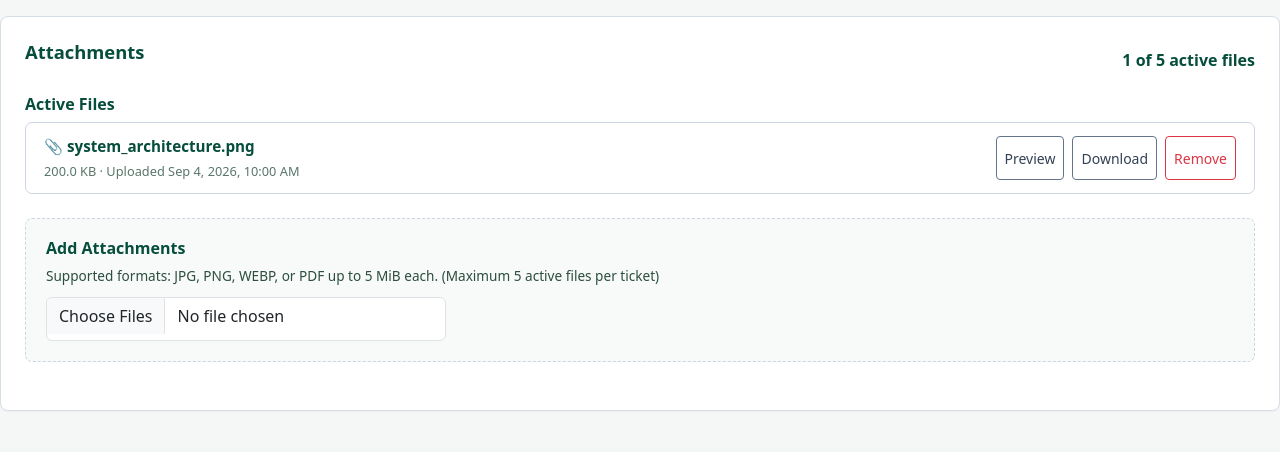
AttachmentSection › UI-ATT-02: Active Attachments Rendering & Actions › displays friendly warning message when popup blocker blocks preview window
What coordinates should you click on to do the following:
click the button "Preview"
I would click on:
 (1030, 158)
Its box is left=996, top=136, right=1064, bottom=180.
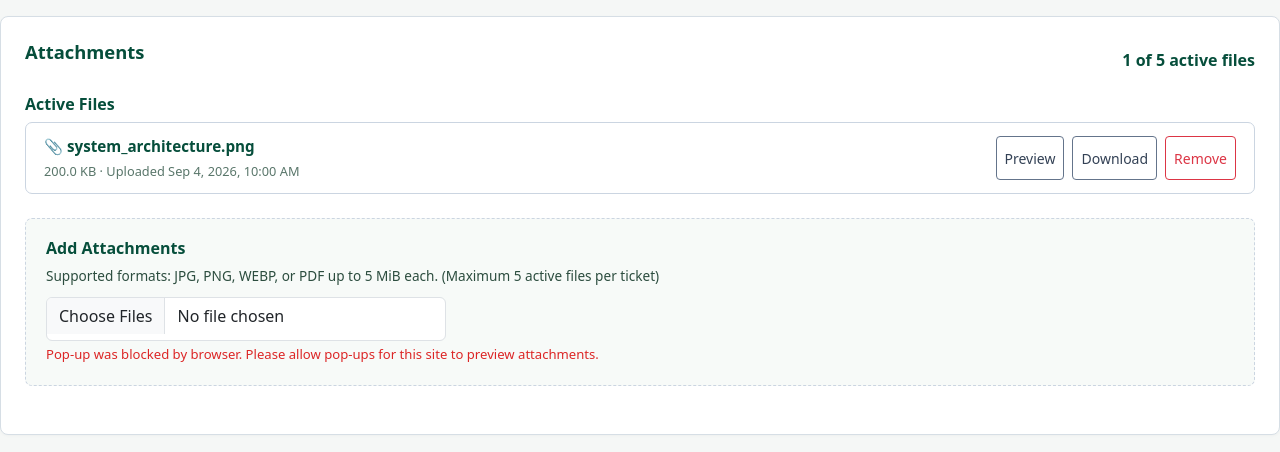
expect the text "Pop-up was blocked by browser" is shown: met, box left=46, top=345, right=599, bottom=363
